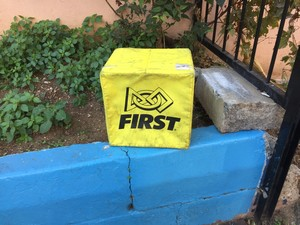cube: (99, 47, 194, 150)
